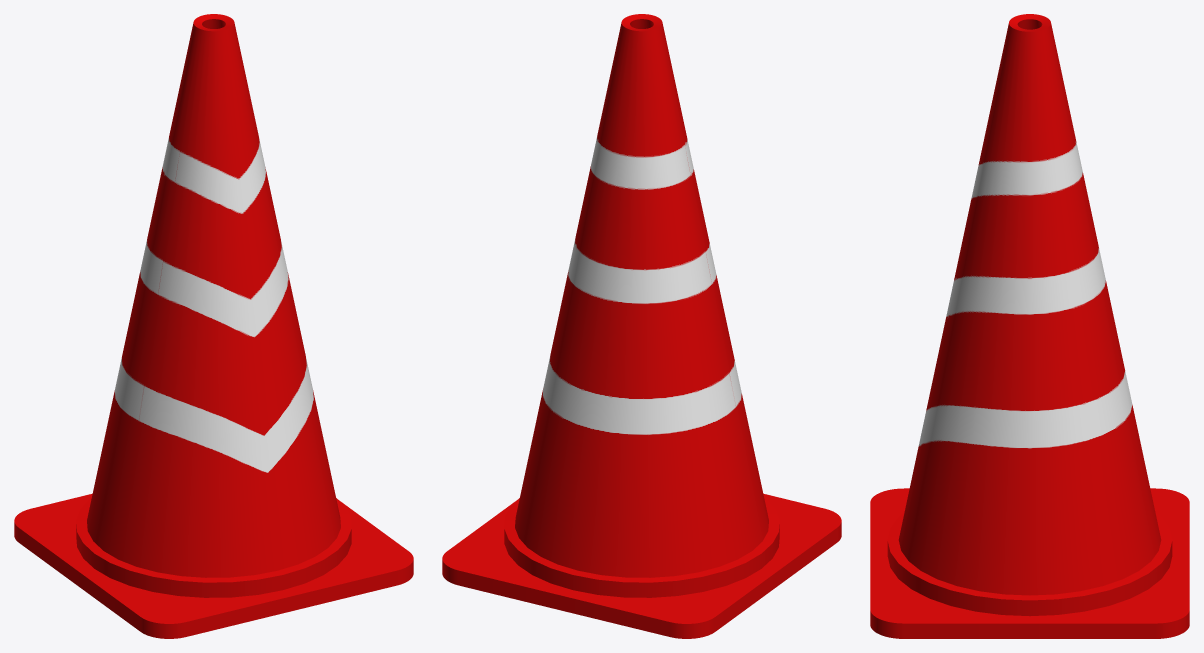
The model's file is 赤色コーン.fbx.
The picture shows the model from 3 angles, left to right: view 1: azimuth 30°, elevation 25°; view 2: azimuth 150°, elevation 25°; view 3: azimuth 270°, elevation 25°; orthographic projection. The views are drawn at different scales.
Visible parts, largest first — view 1: corn_rw.001; view 2: corn_rw.001; view 3: corn_rw.001.
Boxes of the visible parts, x1,y1,x2,y2 form: corn_rw.001: (14,14,413,638); corn_rw.001: (442,14,841,638); corn_rw.001: (870,14,1189,638).
Bounding box in the file's own units: 35.91 × 68.02 × 35.91.
